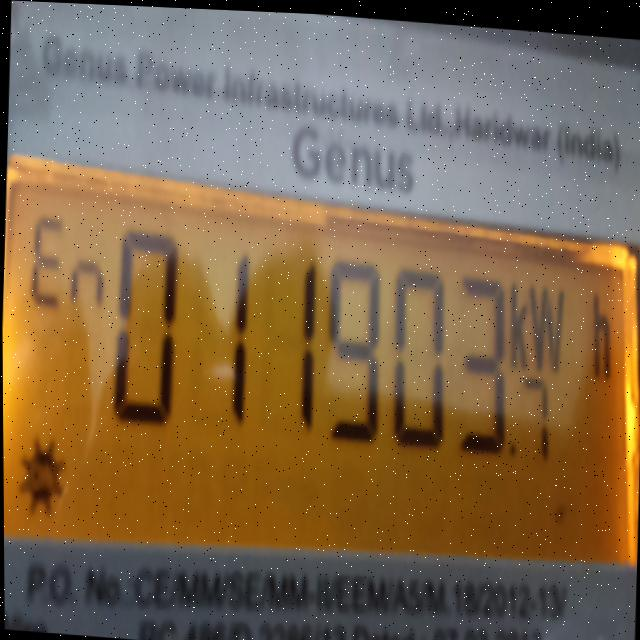.: (503, 429, 519, 466)
0: (104, 217, 199, 441), (378, 252, 458, 458)
1: (210, 249, 270, 431), (275, 252, 323, 438)
3: (449, 255, 513, 472)
7: (514, 364, 554, 465)
9: (318, 239, 391, 464)
